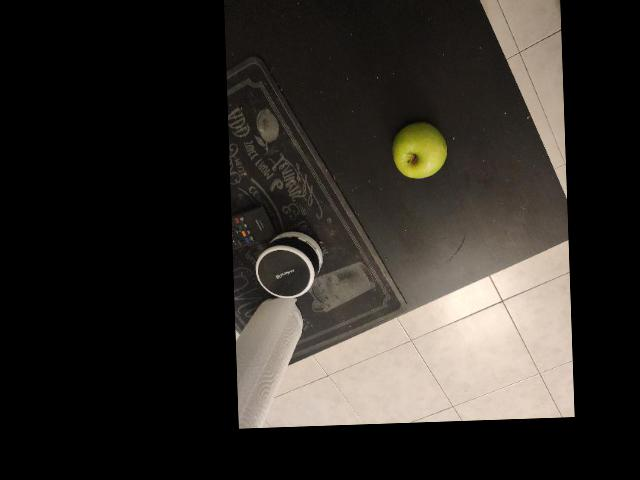apple: (468, 243, 552, 308)
